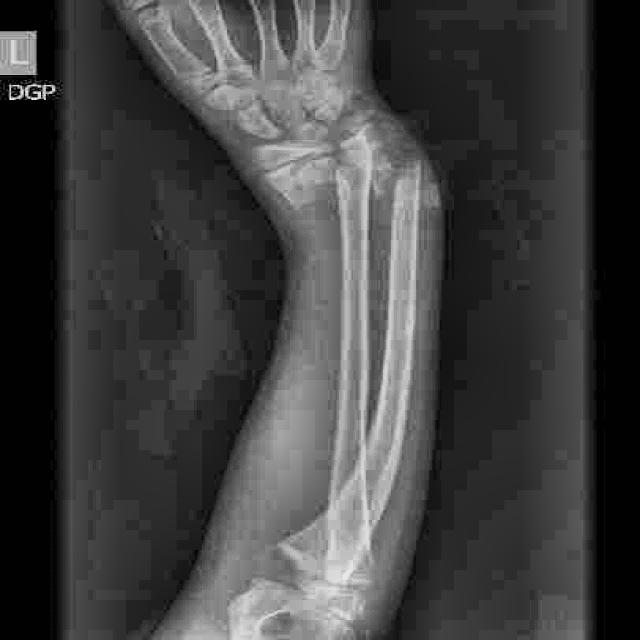forearm fracture: (382, 143, 458, 263)
